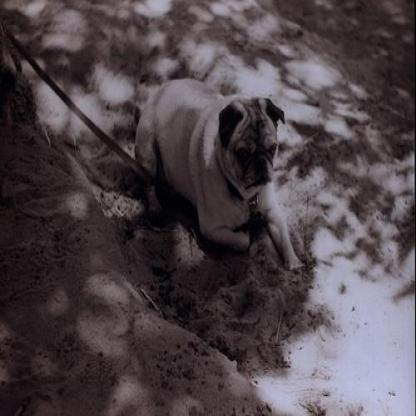pug: (131, 74, 306, 285)
